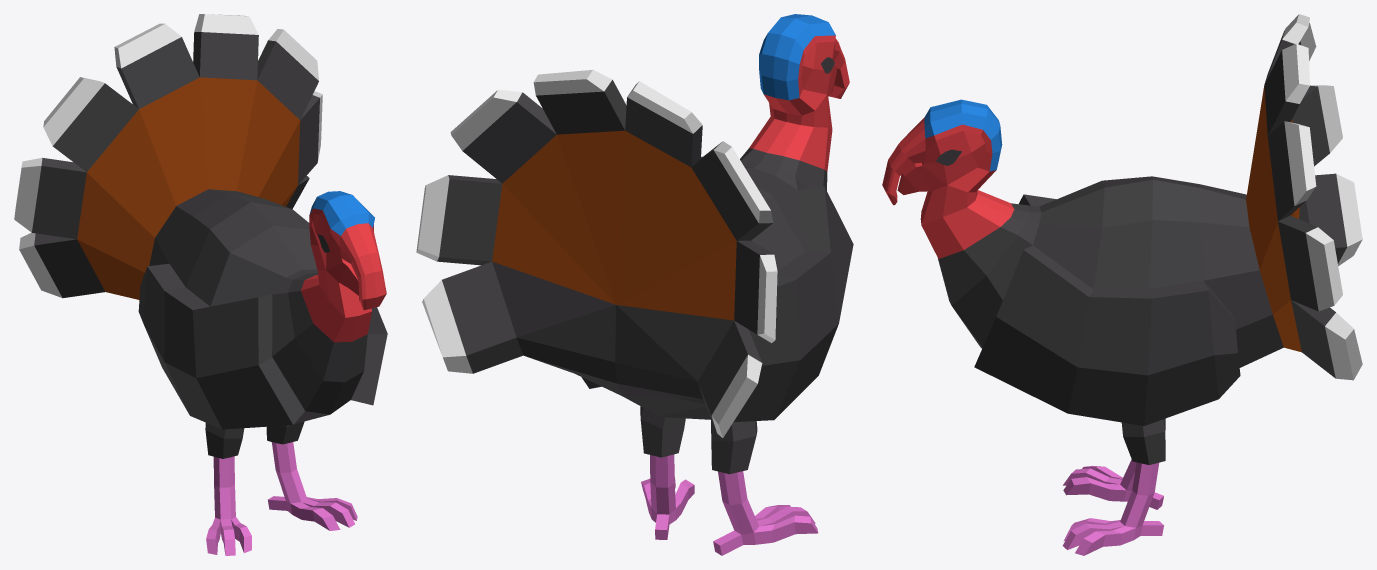
Rendered from Turkey.fbx.
3 renders of one model, left to right at view 1: azimuth 30°, elevation 25°; view 2: azimuth 150°, elevation 25°; view 3: azimuth 270°, elevation 25°, orthographic. The views are drawn at different scales.
Visible parts, largest first — view 1: Cube.003; view 2: Cube.003; view 3: Cube.003.
Part boxes in pixels (x1,y1,x2,y2): Cube.003: (14,14,387,555); Cube.003: (416,14,853,555); Cube.003: (882,14,1362,555).
Bounding box in the file's own units: 164 × 229 × 204.
